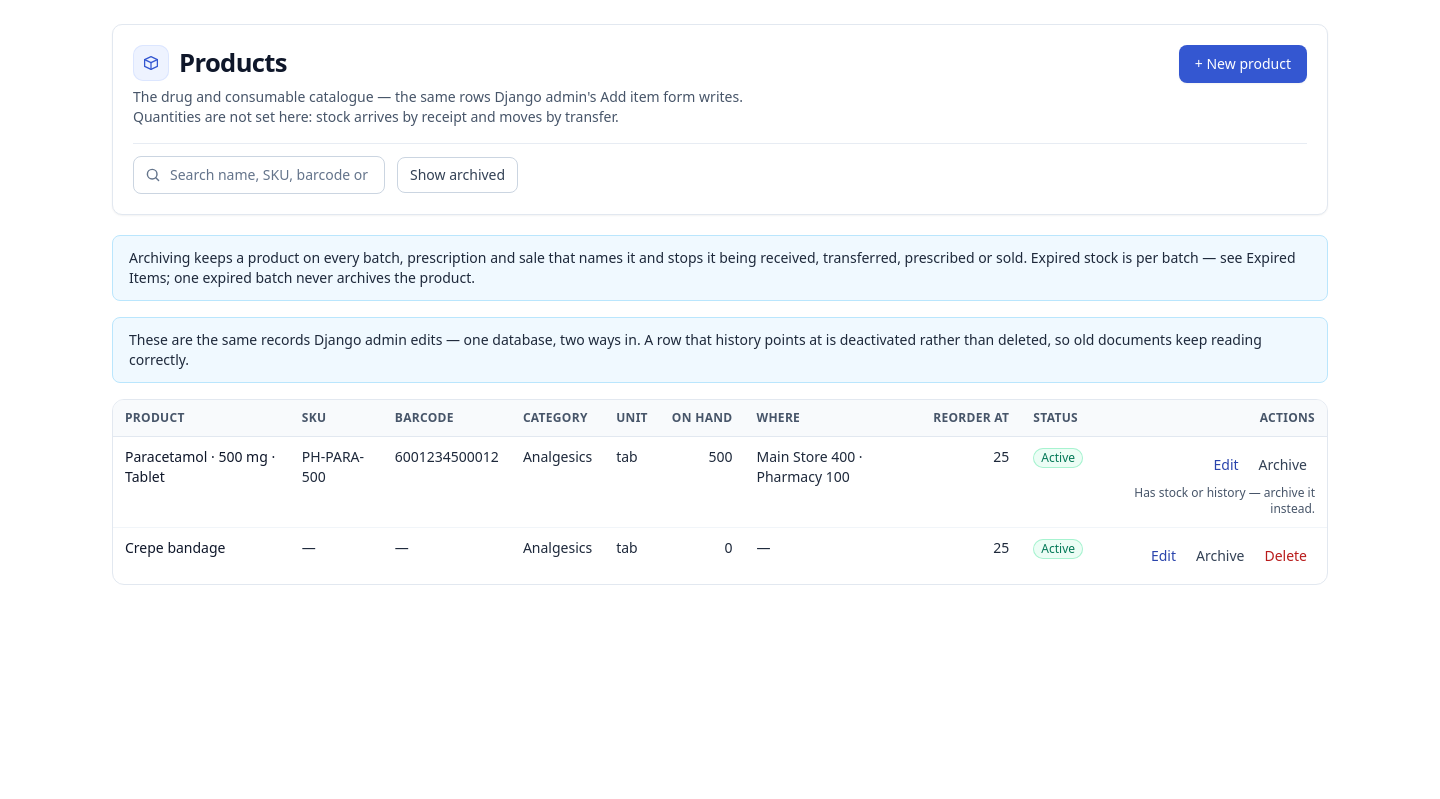
Test: Administration → Products › shows the server's validation, e.g. a SKU another product already holds
Click the button "+ New product" at (1243, 64), box x1=1179 y1=45 x2=1307 y2=83
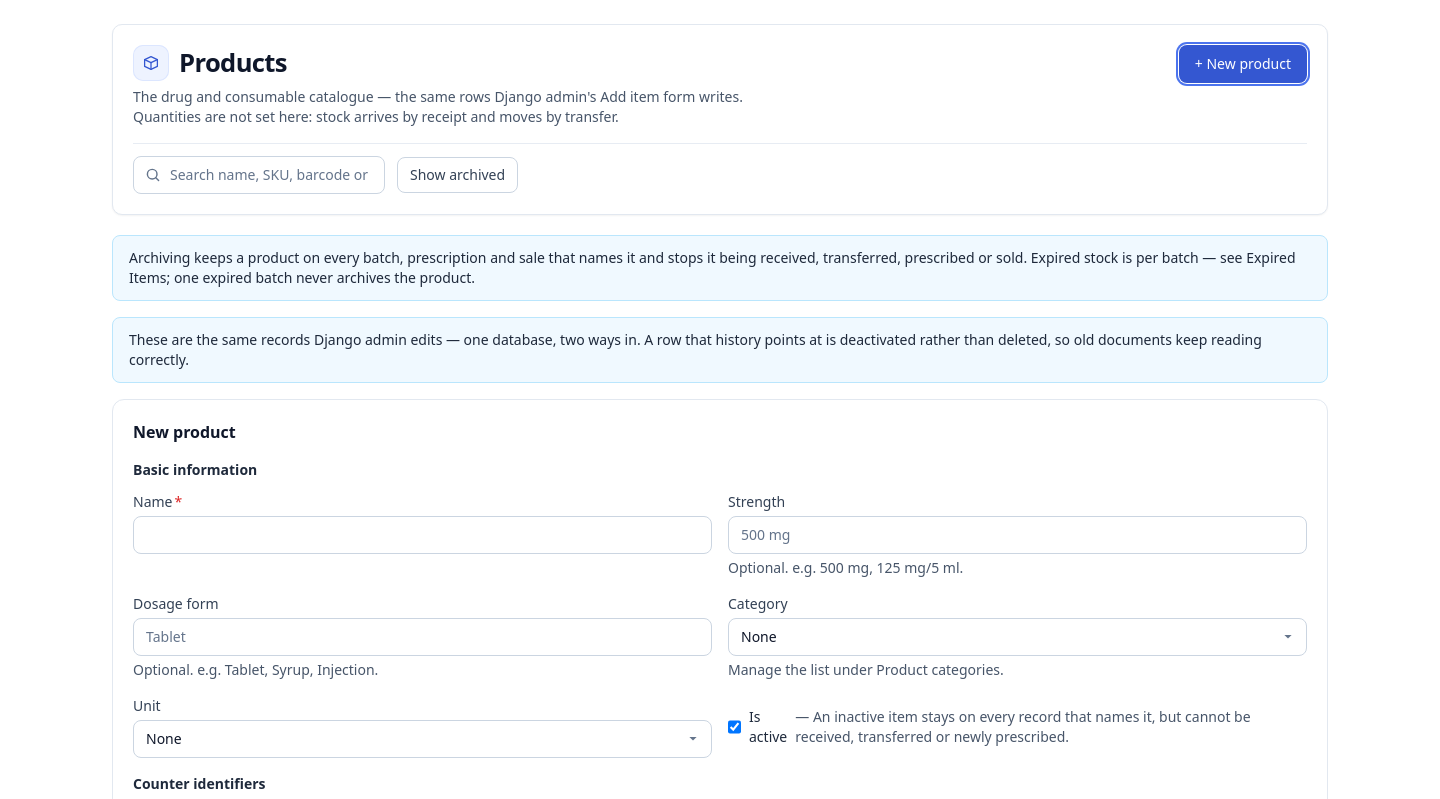
Type "Duplicate" into the field labelled "Name*" at (422, 535), box x1=133 y1=516 x2=712 y2=554
(page scrolled)
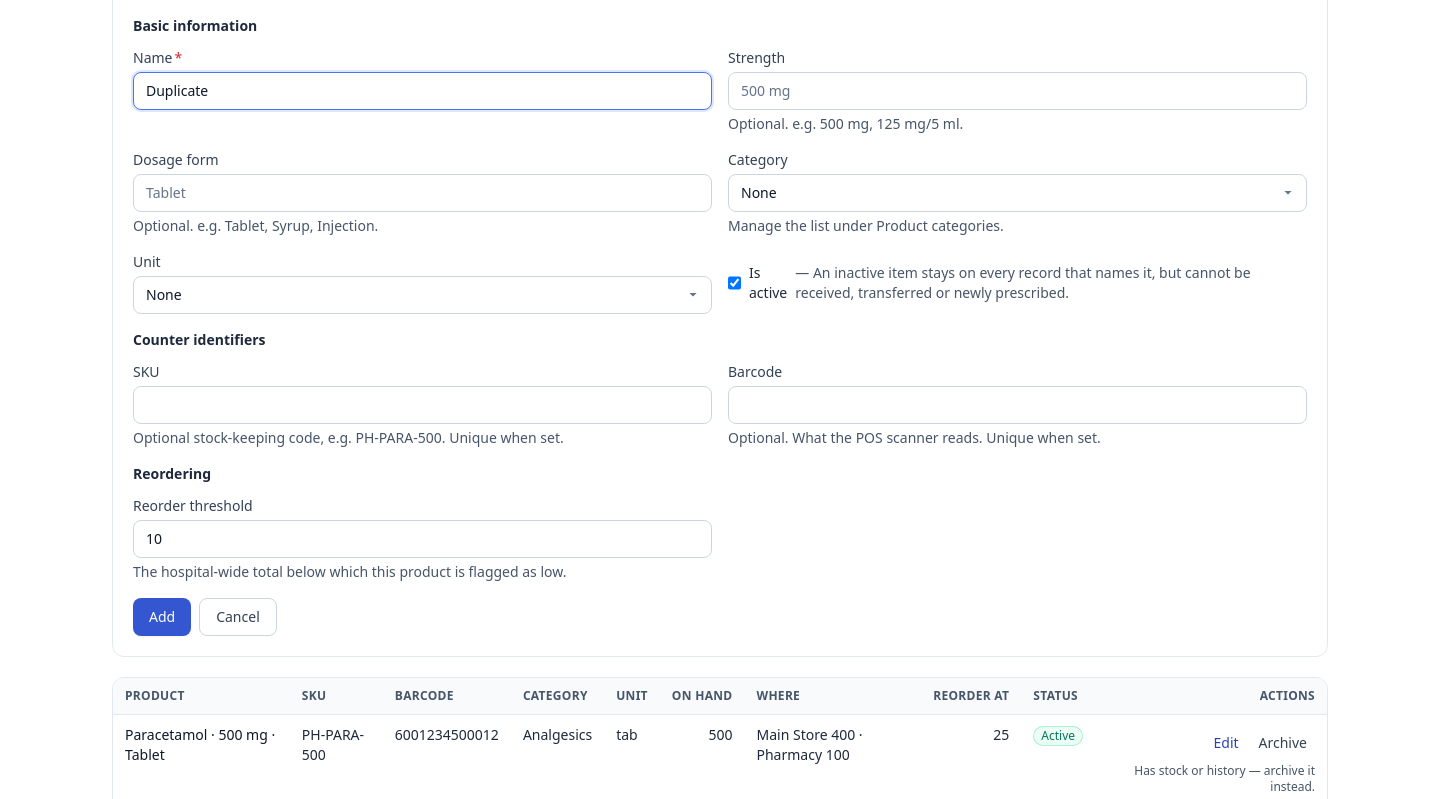
Type "PH-PARA-500" into the field labelled "SKU" at (422, 405), box x1=133 y1=386 x2=712 y2=424
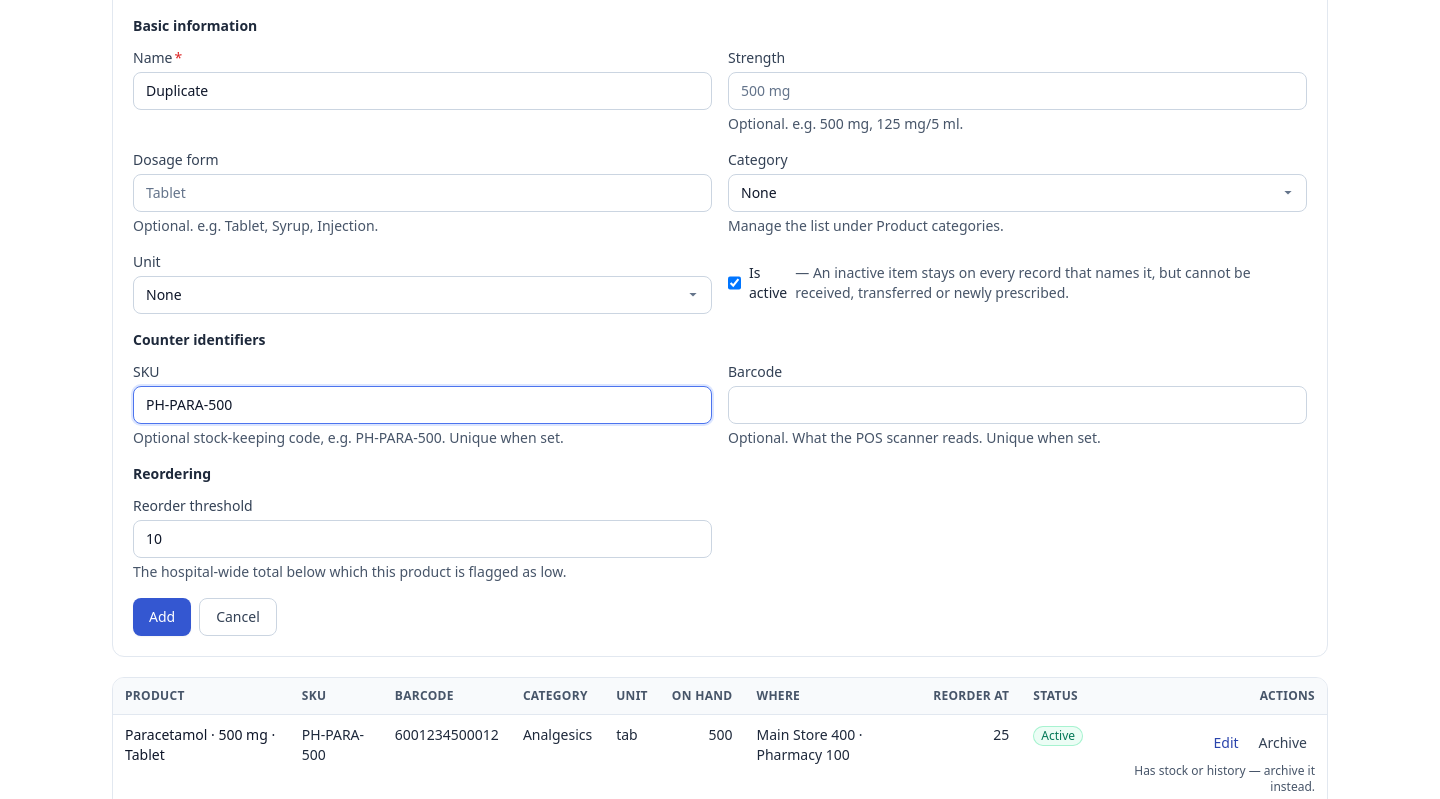
Click the button "Add" at (162, 617), box x1=133 y1=598 x2=191 y2=636
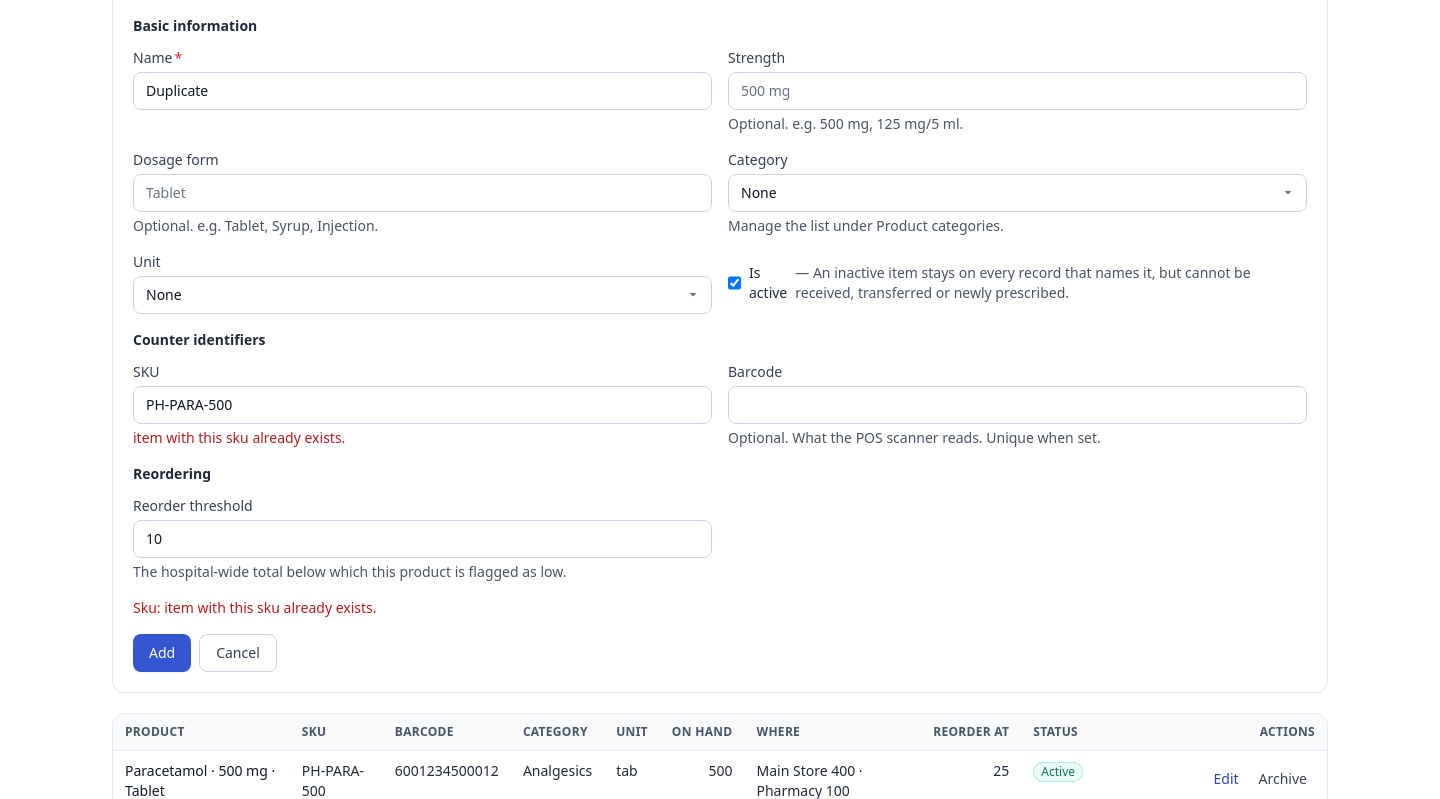
Result: the text "item with this sku already exists." is shown 2 times at x1=133 y1=428 x2=345 y2=447; x1=133 y1=598 x2=377 y2=617
